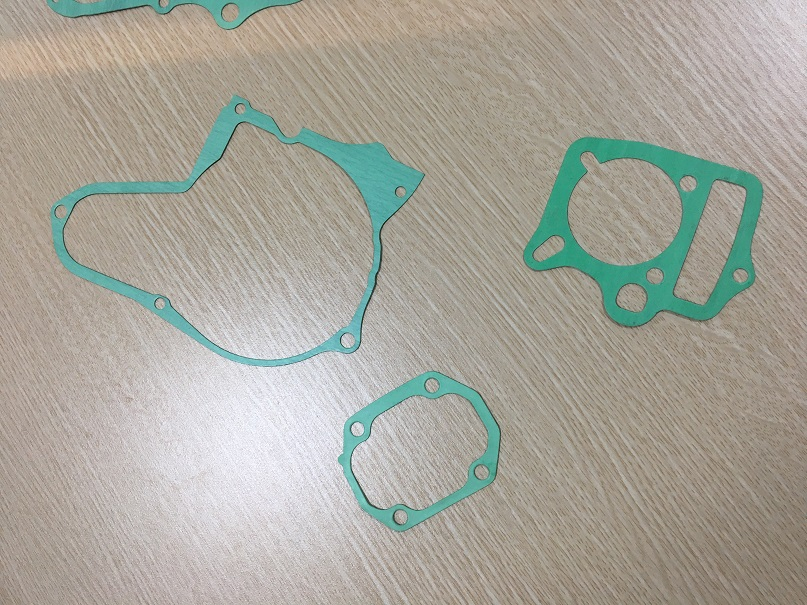type1: (39, 85, 439, 370)
type2: (336, 370, 511, 534)
type4: (516, 119, 767, 340)
